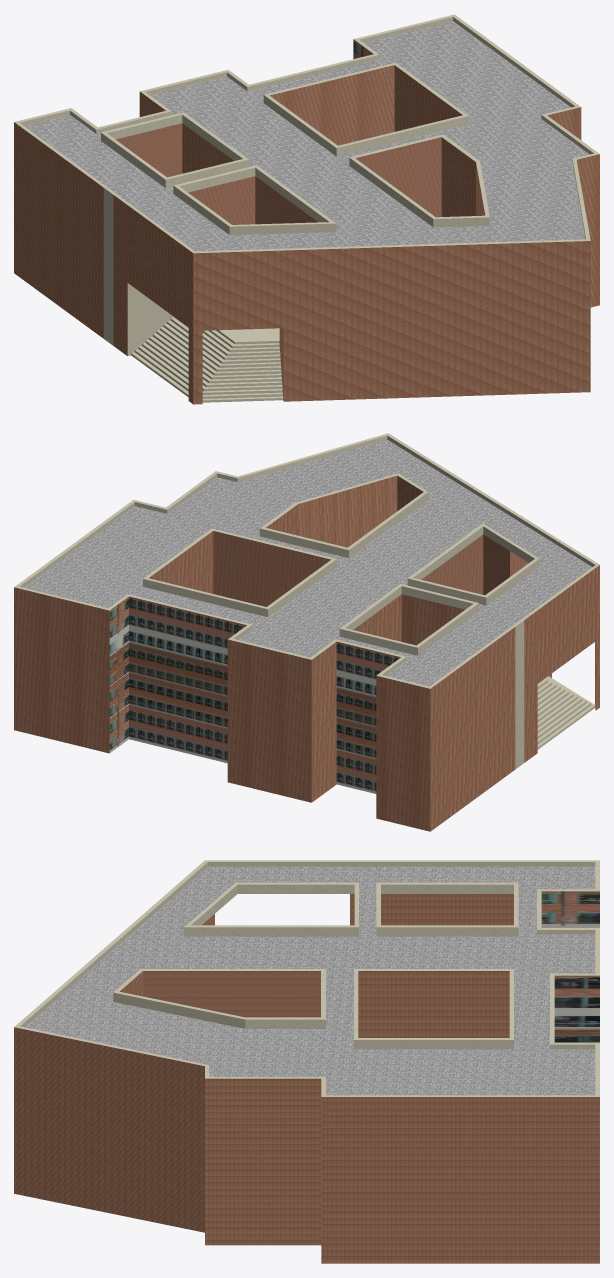
Rendered from zhl.gltf.
The picture shows the model from 3 angles, top to bottom: view 1: azimuth 30°, elevation 25°; view 2: azimuth 150°, elevation 25°; view 3: azimuth 270°, elevation 25°; orthographic projection. The views are drawn at different scales.
Bounding box in the file's own units: 109 × 36.71 × 114.
Materials: 5 (5 with a texture image).
